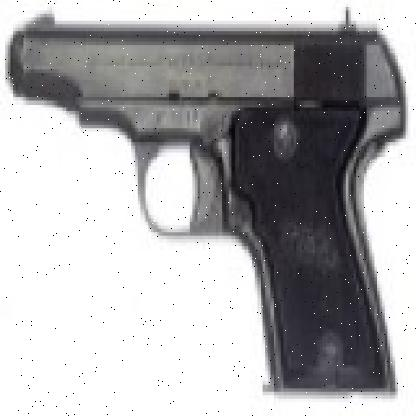pistol: (8, 3, 403, 402)
